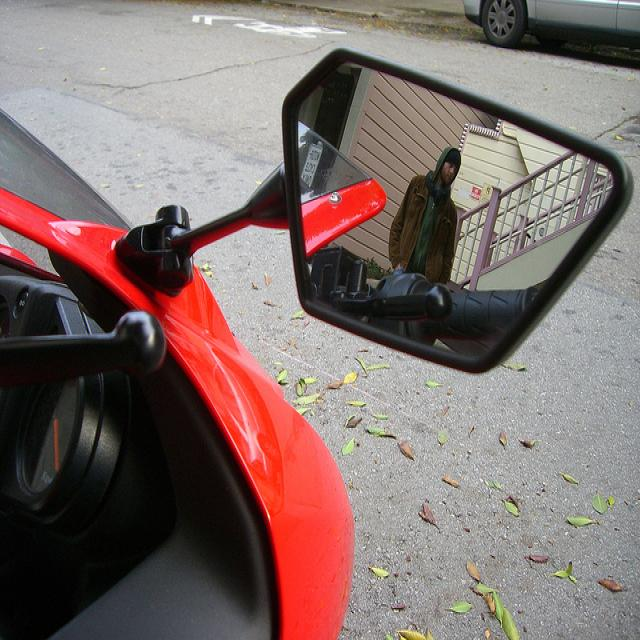motor: (0, 47, 631, 632)
